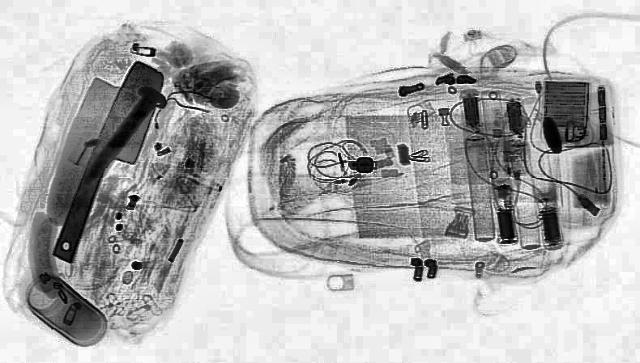Knife: (38, 60, 180, 264)
